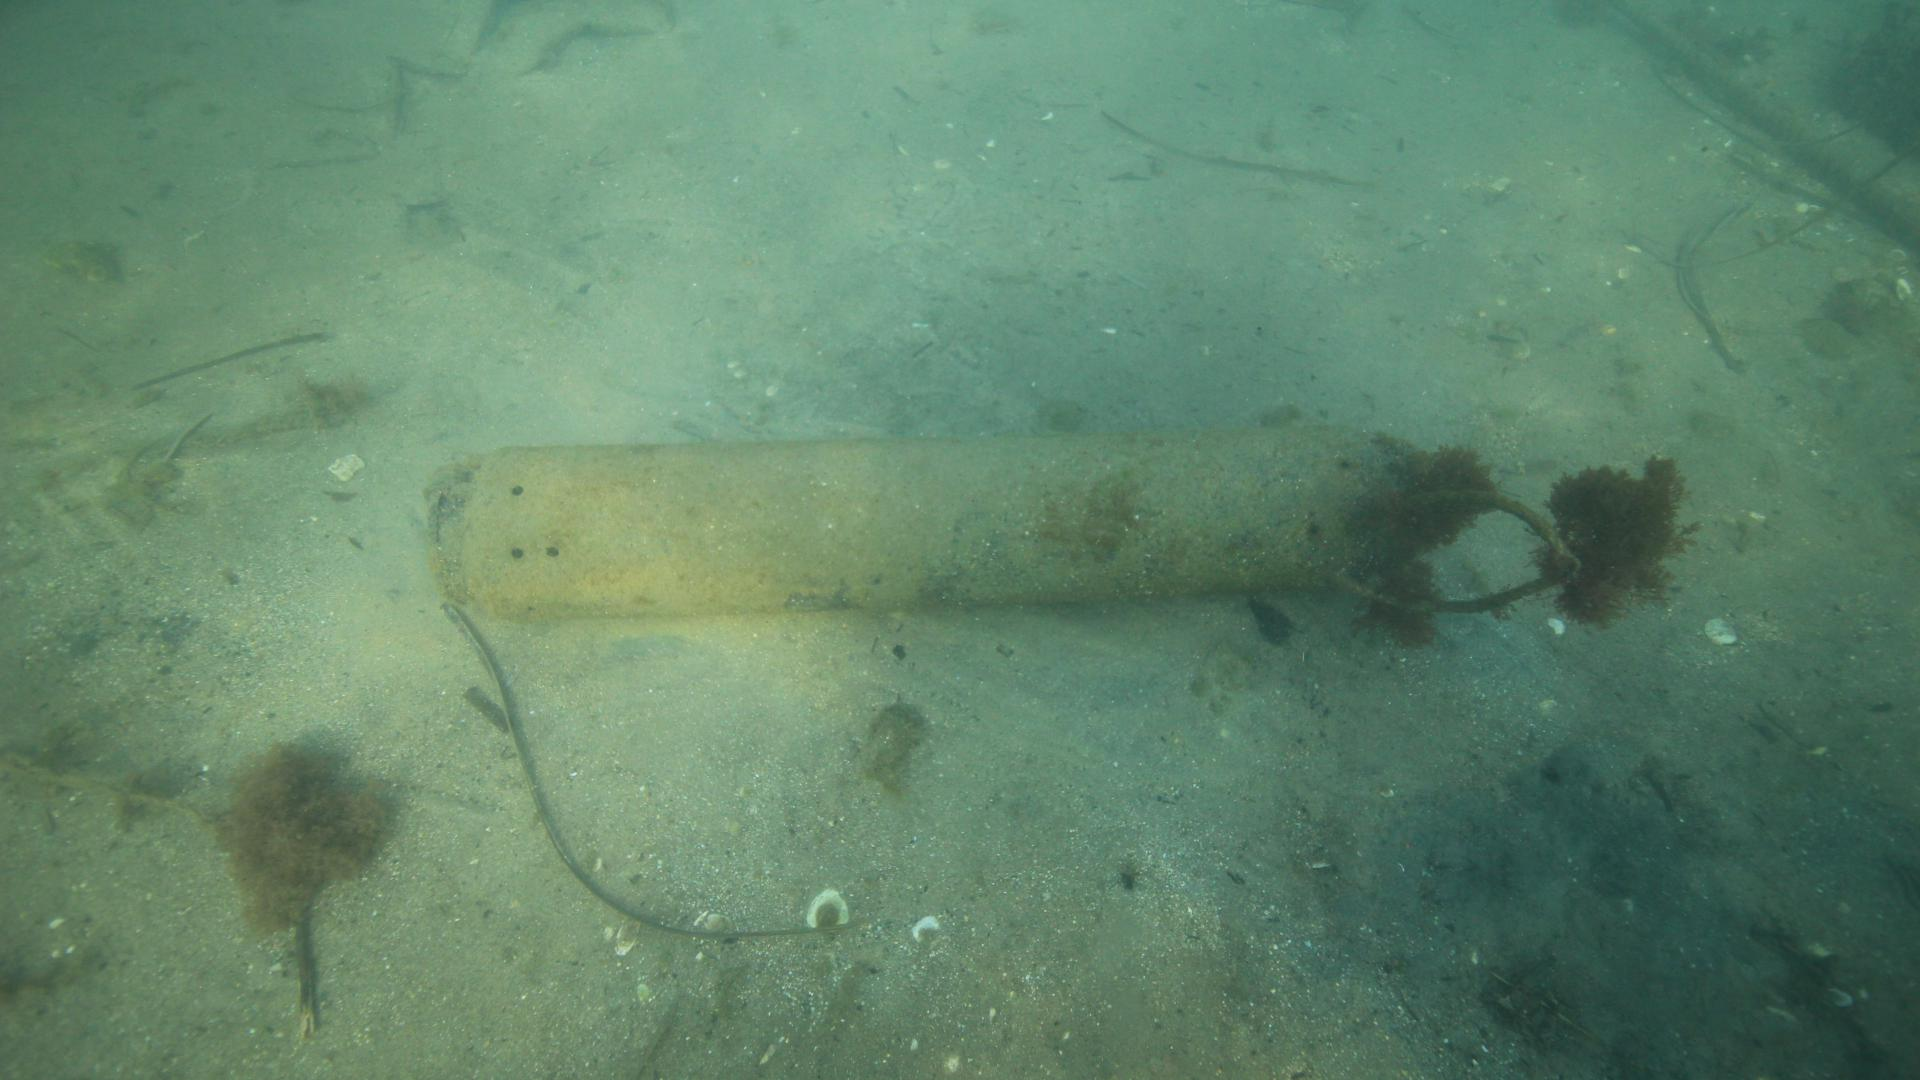bundle of ropes: (1335, 488, 1577, 622)
eel fish trap: (426, 419, 1418, 618)
